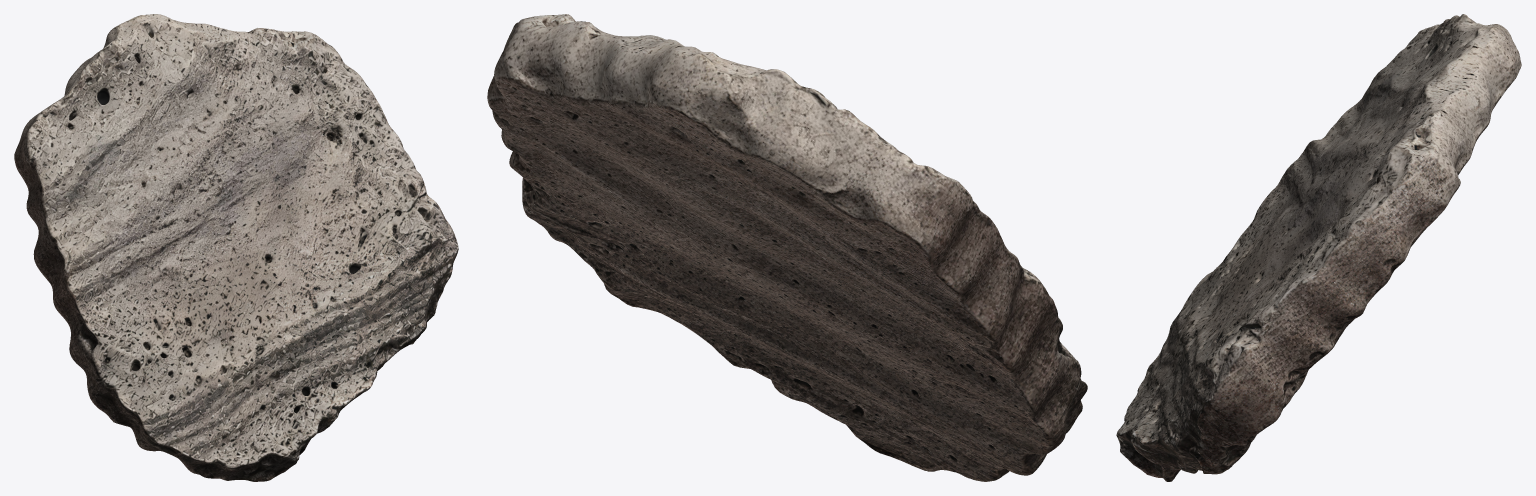
The model's file is textured_stone.glb.
3 renders of one model, left to right at view 1: azimuth 30°, elevation 25°; view 2: azimuth 150°, elevation 25°; view 3: azimuth 270°, elevation 25°, orthographic. The views are drawn at different scales.
Visible parts, largest first — view 1: tripo_node_a930c66a; view 2: tripo_node_a930c66a; view 3: tripo_node_a930c66a.
Part boxes in pixels (left/top/right/bottom): tripo_node_a930c66a: left=14, top=14, right=458, bottom=481; tripo_node_a930c66a: left=487, top=14, right=1087, bottom=481; tripo_node_a930c66a: left=1116, top=14, right=1521, bottom=481.
Bounding box in the file's own units: 97.97 × 95.24 × 77.03.
Materials: 1 (1 with a texture image).
